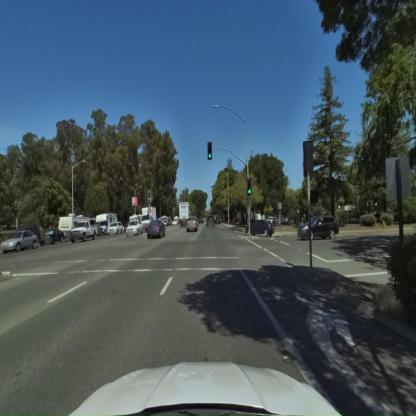car: (300, 214, 340, 240), (0, 230, 39, 255), (245, 216, 277, 239), (250, 220, 274, 236), (127, 217, 143, 238), (44, 230, 66, 245), (147, 220, 165, 238), (206, 213, 216, 230), (187, 218, 199, 232), (214, 214, 222, 226)
traffic light: (207, 142, 212, 160), (246, 182, 252, 196)
truck: (94, 214, 122, 236), (70, 218, 95, 242), (178, 199, 198, 228), (141, 202, 158, 228)
